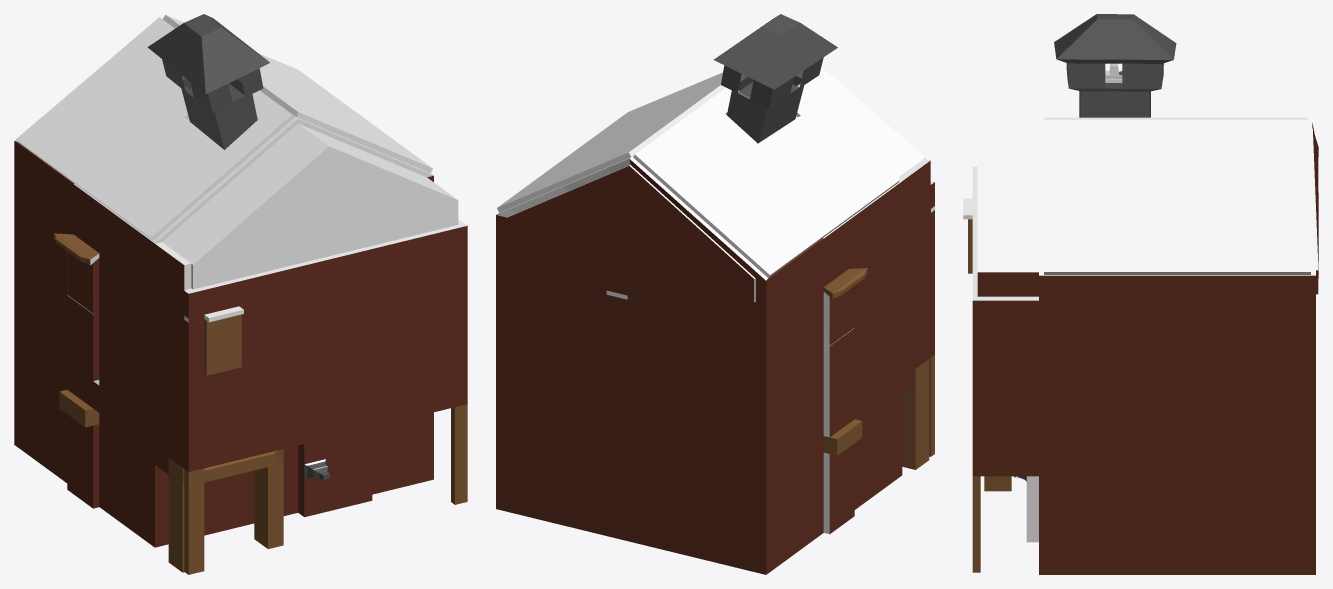
Rendered from house 1.fbx.
The picture shows the model from 3 angles, left to right: view 1: azimuth 30°, elevation 25°; view 2: azimuth 150°, elevation 25°; view 3: azimuth 270°, elevation 25°; orthographic projection. The views are drawn at different scales.
Visible parts, largest first — view 1: Cube; view 2: Cube; view 3: Cube.
Boxes of the visible parts, <box> form: Cube: <box>14,14,467,574</box>; Cube: <box>496,14,934,574</box>; Cube: <box>963,14,1318,574</box>.
Bounding box in the file's own units: 746 × 1144 × 779.
